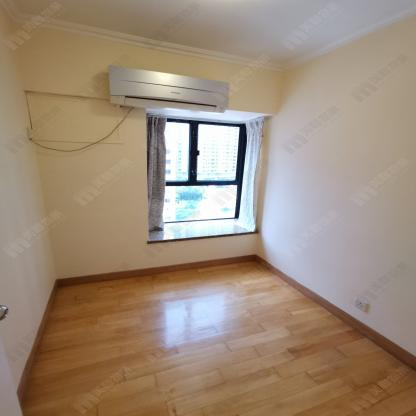AC: (110, 65, 232, 114)
Windowsill: (146, 108, 277, 244)
